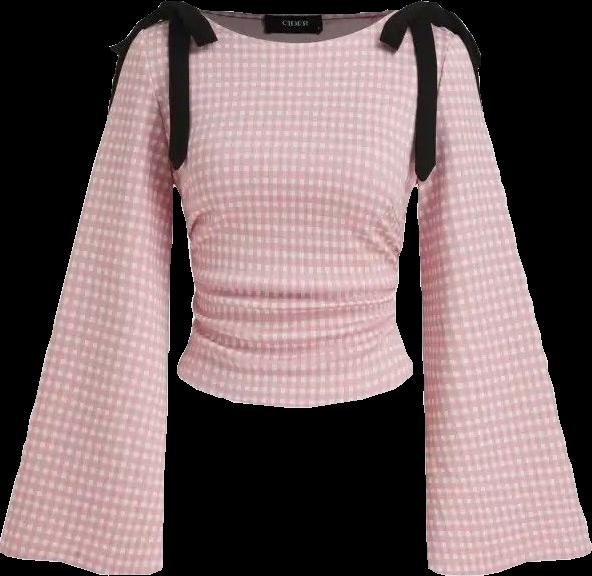Bodice: (136, 2, 457, 407)
Neckline: (197, 6, 395, 47)
Sleeve: (414, 16, 591, 575), (0, 25, 174, 573)
Sleeveline: (413, 15, 463, 191), (135, 23, 178, 182)
Waistline: (173, 366, 415, 409)
